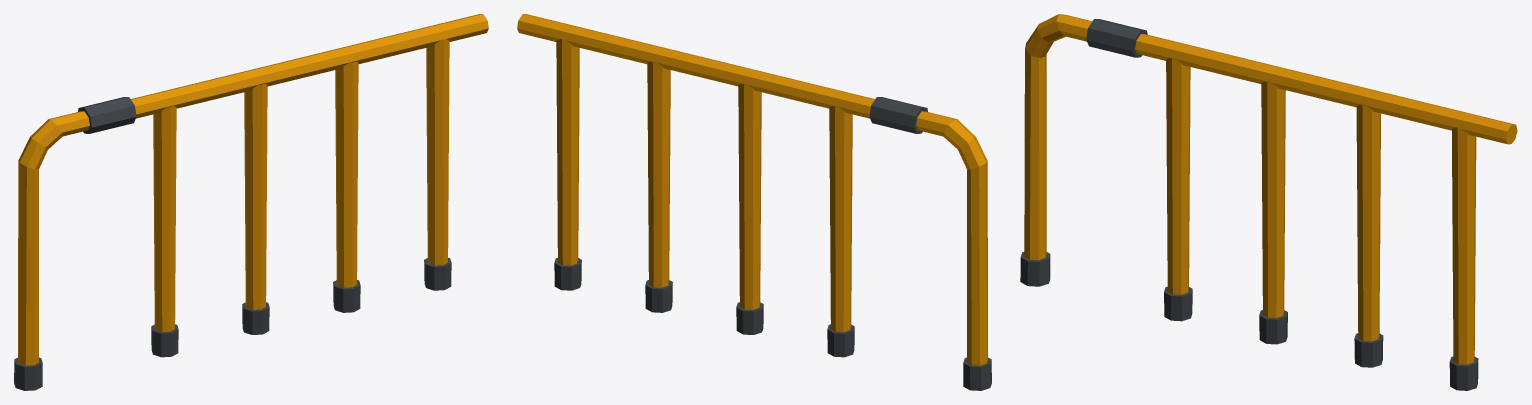
The model's file is Fence_End_01.glb.
3 renders of one model, left to right at view 1: azimuth 30°, elevation 25°; view 2: azimuth 150°, elevation 25°; view 3: azimuth 330°, elevation 25°, orthographic. The views are drawn at different scales.
Parts seen in each view (by area): view 1: Fence_End_01; view 2: Fence_End_01; view 3: Fence_End_01.
Boxes of the visible parts, x1=… form: Fence_End_01: x1=14, y1=14, x2=488, y2=390; Fence_End_01: x1=517, y1=14, x2=991, y2=390; Fence_End_01: x1=1020, y1=14, x2=1517, y2=390.
Size of what is drawn, in the model's own units: 2.06 by 1.11 by 0.1142.
1 material, 1 textured.
